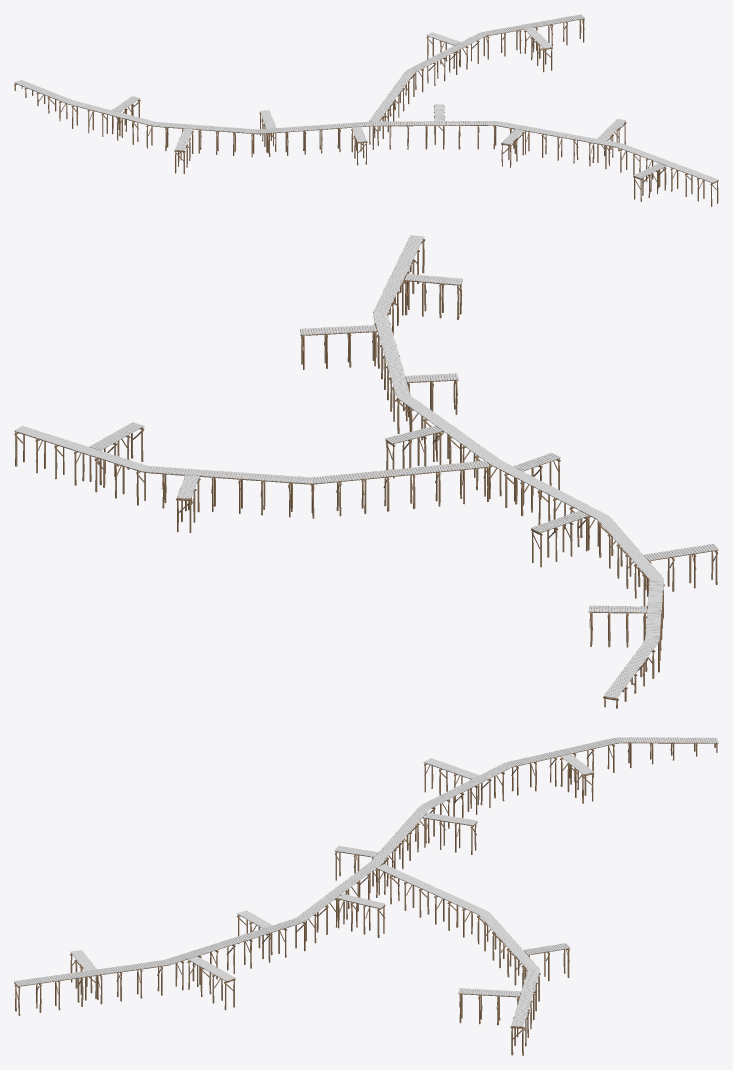
The model's file is structures_walks.glb.
3 views of the same model, one above another, from view 1: azimuth 30°, elevation 25°; view 2: azimuth 150°, elevation 25°; view 3: azimuth 270°, elevation 25° (orthographic). The views are drawn at different scales.
Parts seen in each view (by area): view 1: spine plank_walk, spine timber:round, east walk plank_walk, east walk timber:round, spine timber, east walk timber; view 2: spine plank_walk, spine timber:round, east walk plank_walk, east walk timber:round, east walk timber, spine timber; view 3: spine plank_walk, spine timber:round, east walk plank_walk, east walk timber:round, spine timber.
Boxes of the visible parts, bbox=[...] form: spine plank_walk: bbox=[14, 80, 718, 182]; spine timber:round: bbox=[14, 83, 718, 206]; east walk plank_walk: bbox=[369, 14, 584, 121]; east walk timber:round: bbox=[369, 18, 584, 145]; spine timber: bbox=[14, 83, 718, 190]; east walk timber: bbox=[370, 18, 584, 131]; spine plank_walk: bbox=[373, 235, 663, 698]; spine timber:round: bbox=[374, 239, 663, 708]; east walk plank_walk: bbox=[14, 425, 489, 483]; east walk timber:round: bbox=[15, 432, 488, 518]; east walk timber: bbox=[14, 431, 491, 499]; spine timber: bbox=[373, 238, 664, 700]; spine plank_walk: bbox=[14, 737, 718, 986]; spine timber:round: bbox=[15, 742, 717, 1015]; east walk plank_walk: bbox=[377, 864, 539, 1026]; east walk timber:round: bbox=[376, 868, 539, 1055]; spine timber: bbox=[14, 742, 718, 999].
Size of the model in its own units: 83.87 by 4.01 by 84.31.
